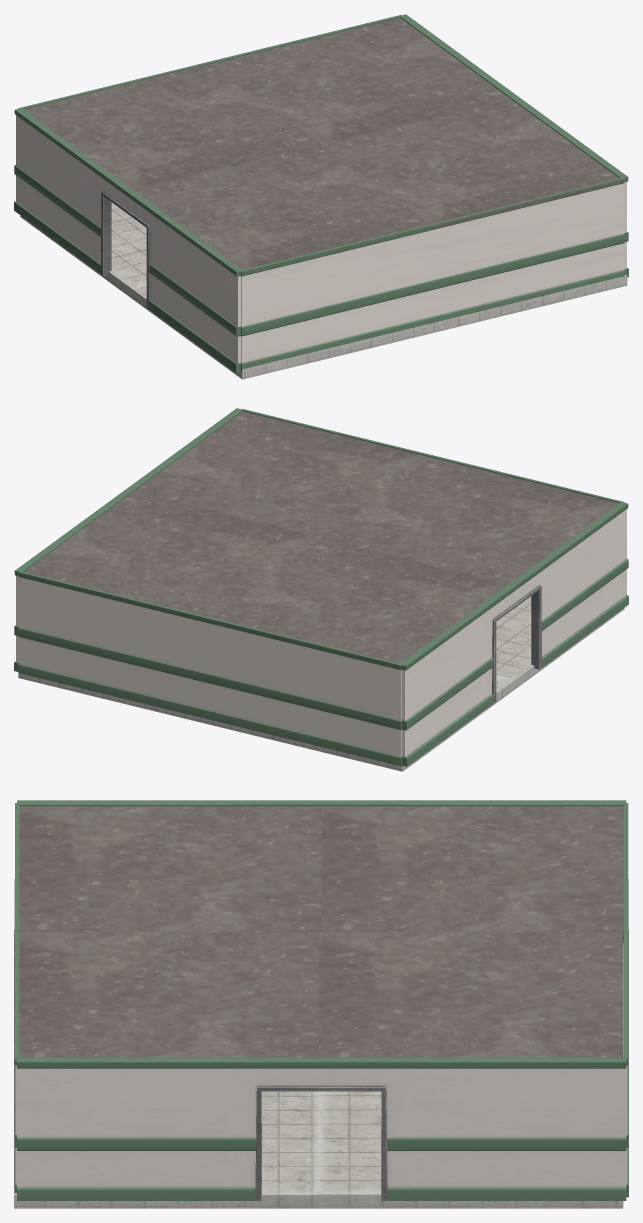
File: SM_Room_TwoEntrance.gltf
3 renders of one model, top to bottom at view 1: azimuth 30°, elevation 25°; view 2: azimuth 150°, elevation 25°; view 3: azimuth 270°, elevation 25°, orthographic. The views are drawn at different scales.
Parts seen in each view (by area): view 1: node0; view 2: node0; view 3: node0.
Part boxes in pixels (left/top/right/bottom): node0: left=14, top=14, right=628, bottom=379; node0: left=14, top=408, right=628, bottom=771; node0: left=14, top=800, right=628, bottom=1208.
Bounding box in the file's own units: 20.47 × 5.35 × 20.19.
5 materials, 4 textured.
